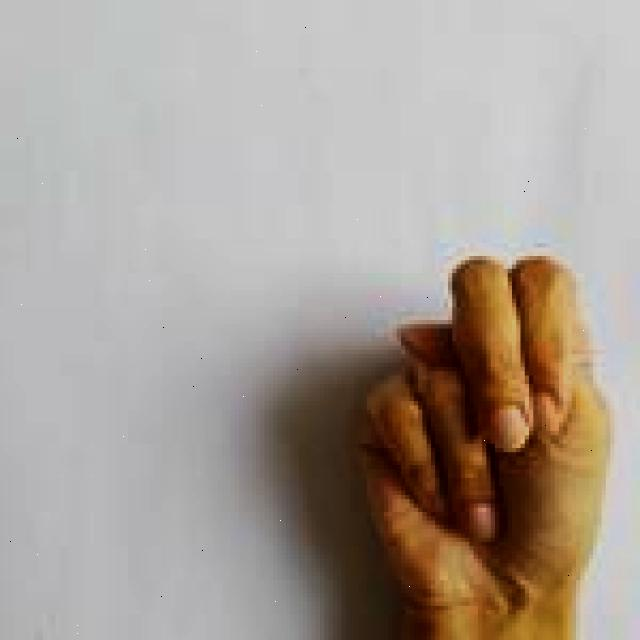N: (341, 250, 618, 640)
